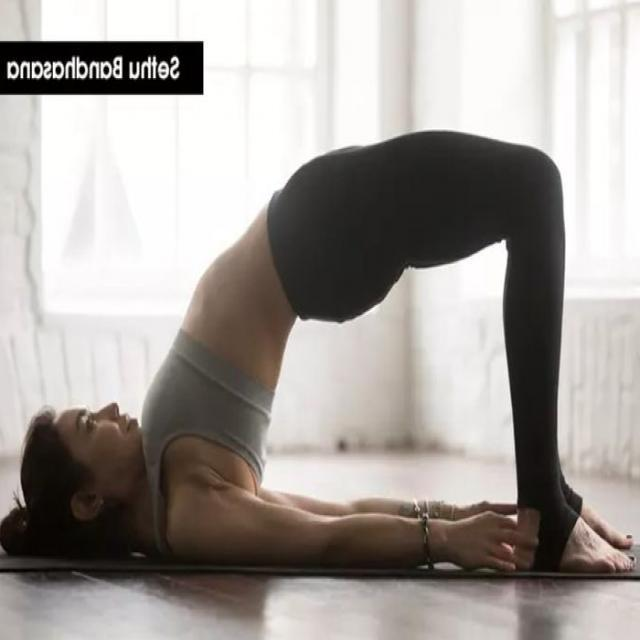yoga-pose bridge: (17, 123, 624, 592)
